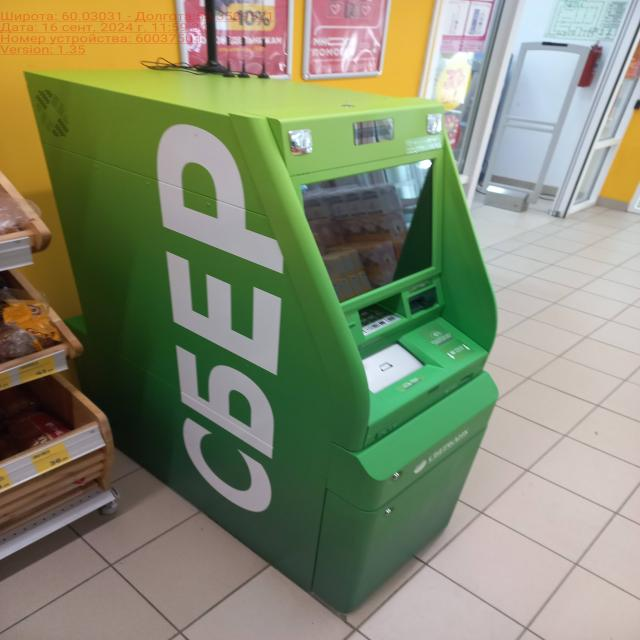bank: (28, 71, 494, 616)
